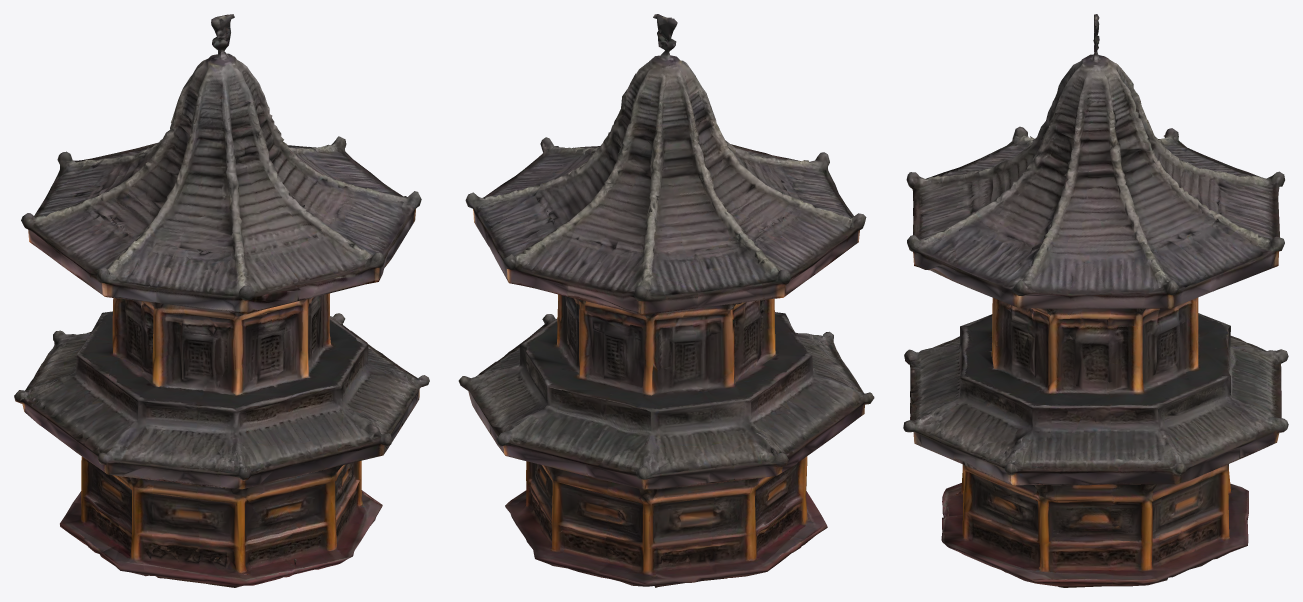
Rendered from bq_granary.mid.glb.
3 renders of one model, left to right at view 1: azimuth 30°, elevation 25°; view 2: azimuth 150°, elevation 25°; view 3: azimuth 270°, elevation 25°, orthographic.
Size of the model in its own units: 1.3 by 1.99 by 1.31.
Materials: 1 (1 with a texture image).
